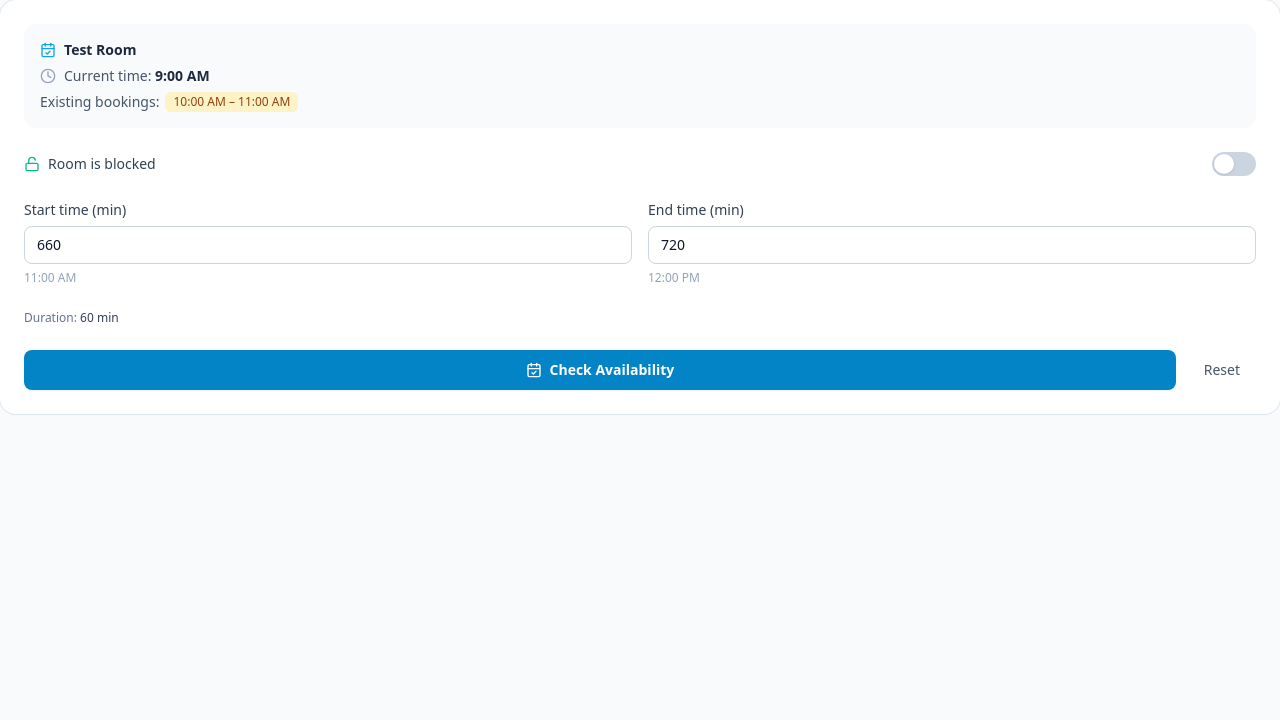
Test: AvailabilityPanel › rejects a past start time (AC2)
The image size is (1280, 720).
Replace the text in the number field labelled "Start time (min)" with "400". click: x=328, y=245
box: left=24, top=226, right=632, bottom=264
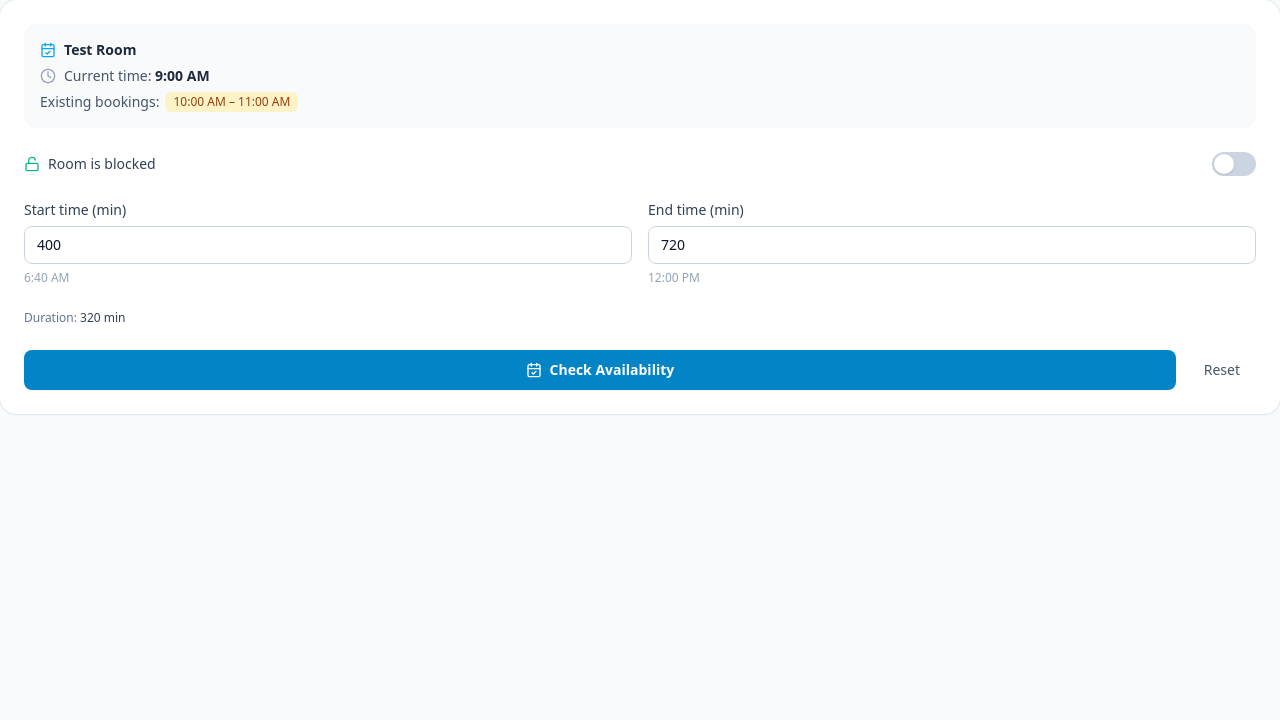
Replace the text in the number field labelled "End time (min)" with "500". click: x=952, y=245
box: left=648, top=226, right=1256, bottom=264
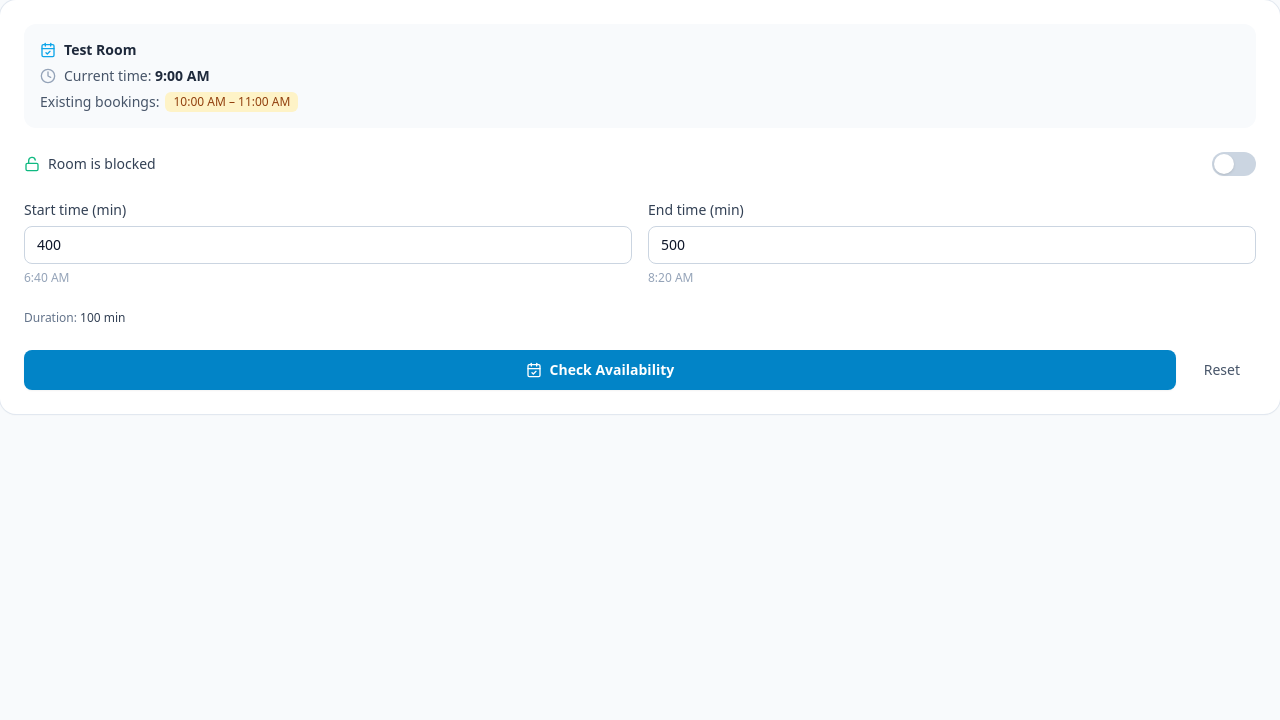
Click the button "Check Availability". click: x=600, y=370
box: left=24, top=350, right=1176, bottom=390
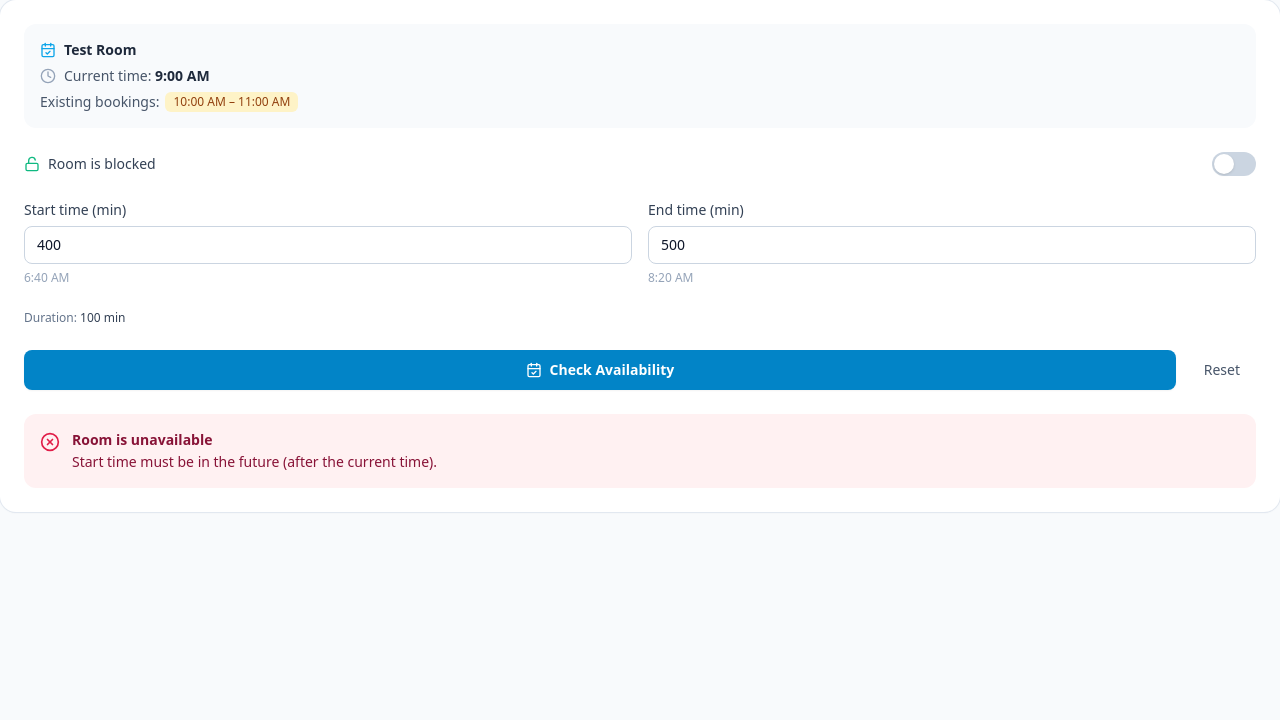
Result: the text "Room is unavailable" is shown at left=72, top=430, right=212, bottom=449
Result: the text "Start time must be in the future (after the current time)." is shown at left=72, top=452, right=437, bottom=472
